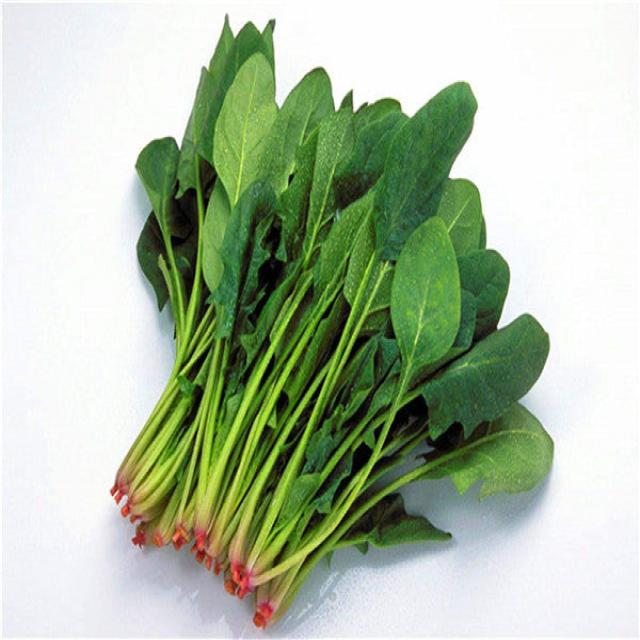spinach: (104, 5, 572, 633)
